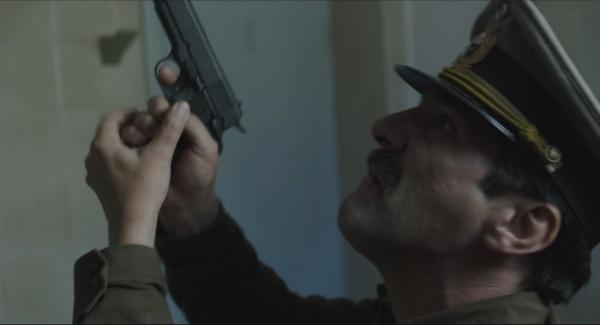Gun: (140, 0, 247, 154)
